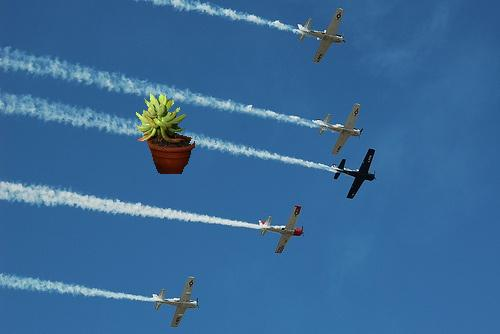tampered: (137, 94, 195, 174)
